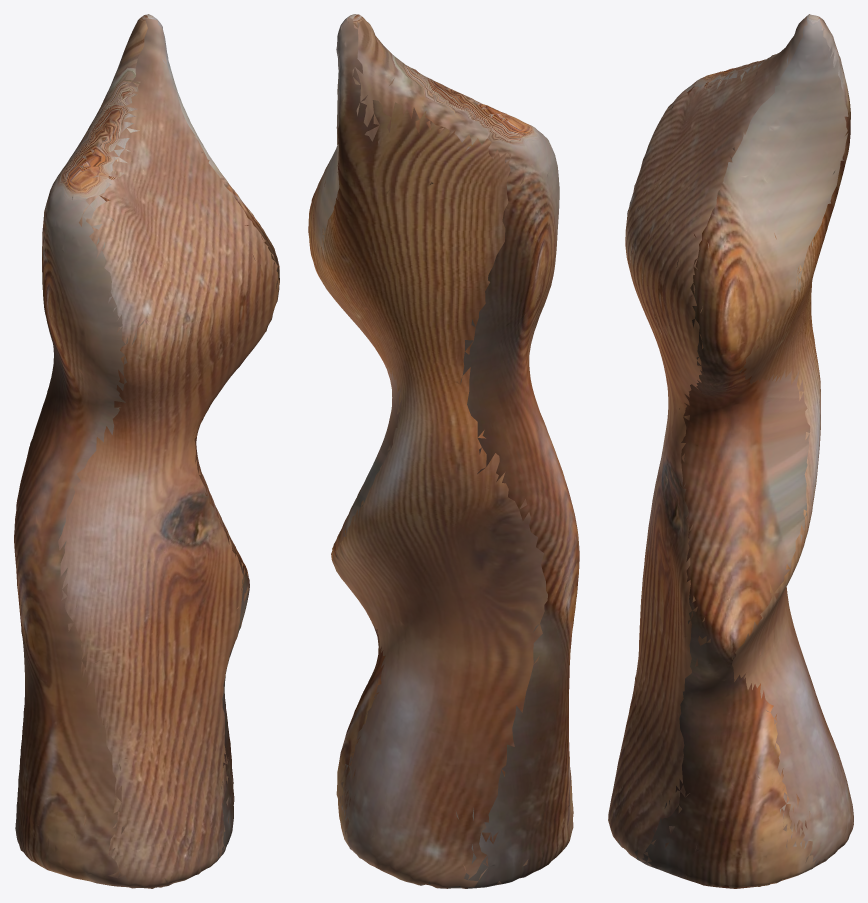
The model's file is hy3d-esc-009.glb.
3 views of the same model, side by side, from view 1: azimuth 30°, elevation 25°; view 2: azimuth 150°, elevation 25°; view 3: azimuth 270°, elevation 25° (orthographic). The views are drawn at different scales.
Parts seen in each view (by area): view 1: world; view 2: world; view 3: world.
Part boxes in pixels (x1,y1,x2,y2): world: (14, 14, 279, 888); world: (308, 14, 579, 888); world: (608, 14, 853, 888).
Size of the model in its own units: 0.4012 by 1.22 by 0.3172.
1 material, 1 textured.
